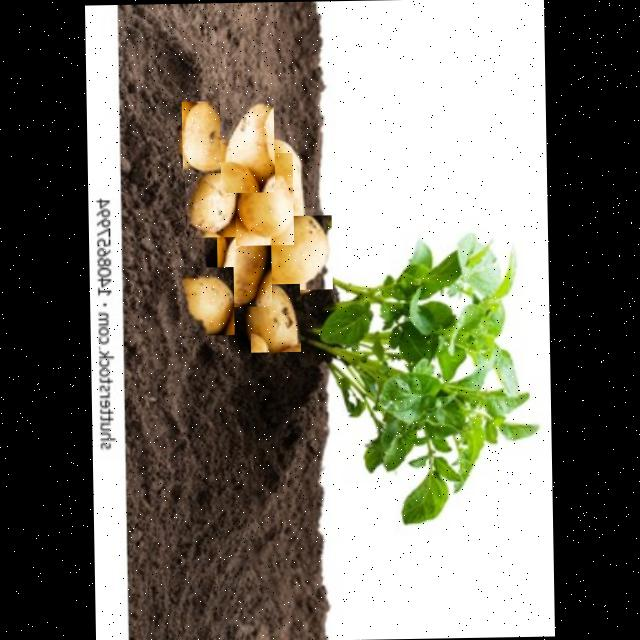Potato: (219, 90, 275, 192), (234, 152, 294, 245), (262, 214, 332, 289), (216, 221, 272, 306), (184, 166, 240, 237), (181, 266, 234, 334), (250, 282, 300, 352), (182, 100, 230, 172)
